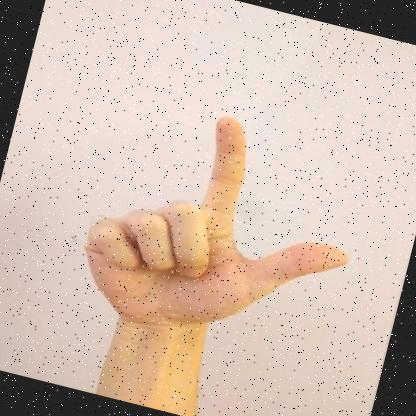L: (84, 117, 348, 341)
